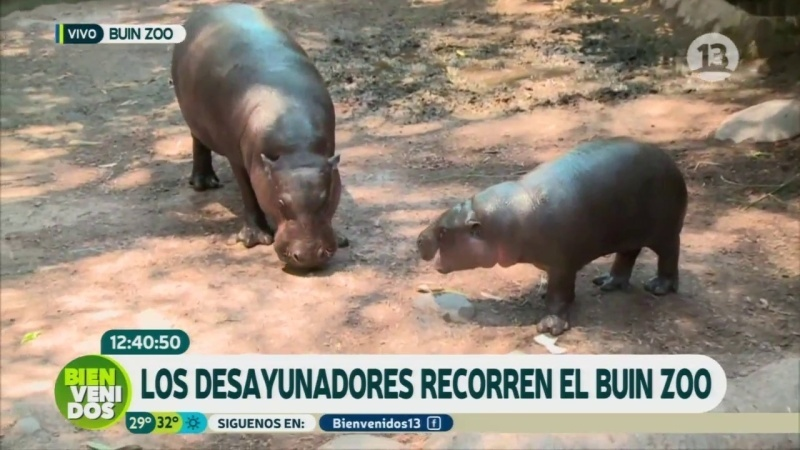hipopotamo: (158, 1, 378, 287), (410, 136, 709, 342)
